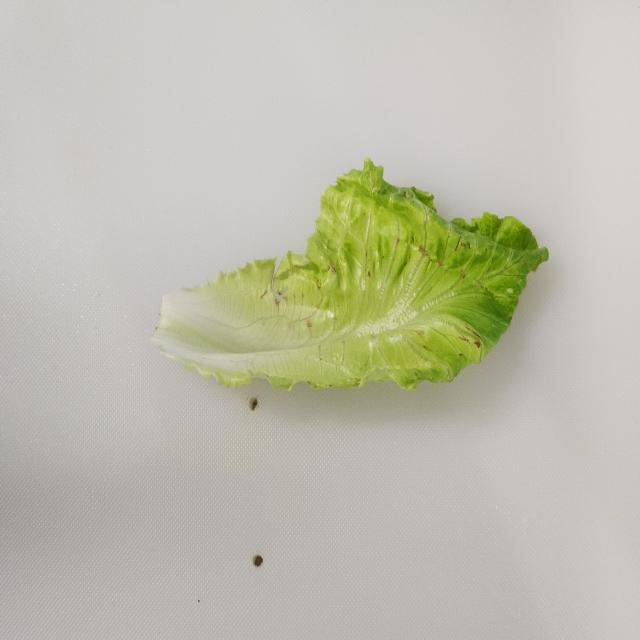lettuce: (150, 157, 550, 393)
